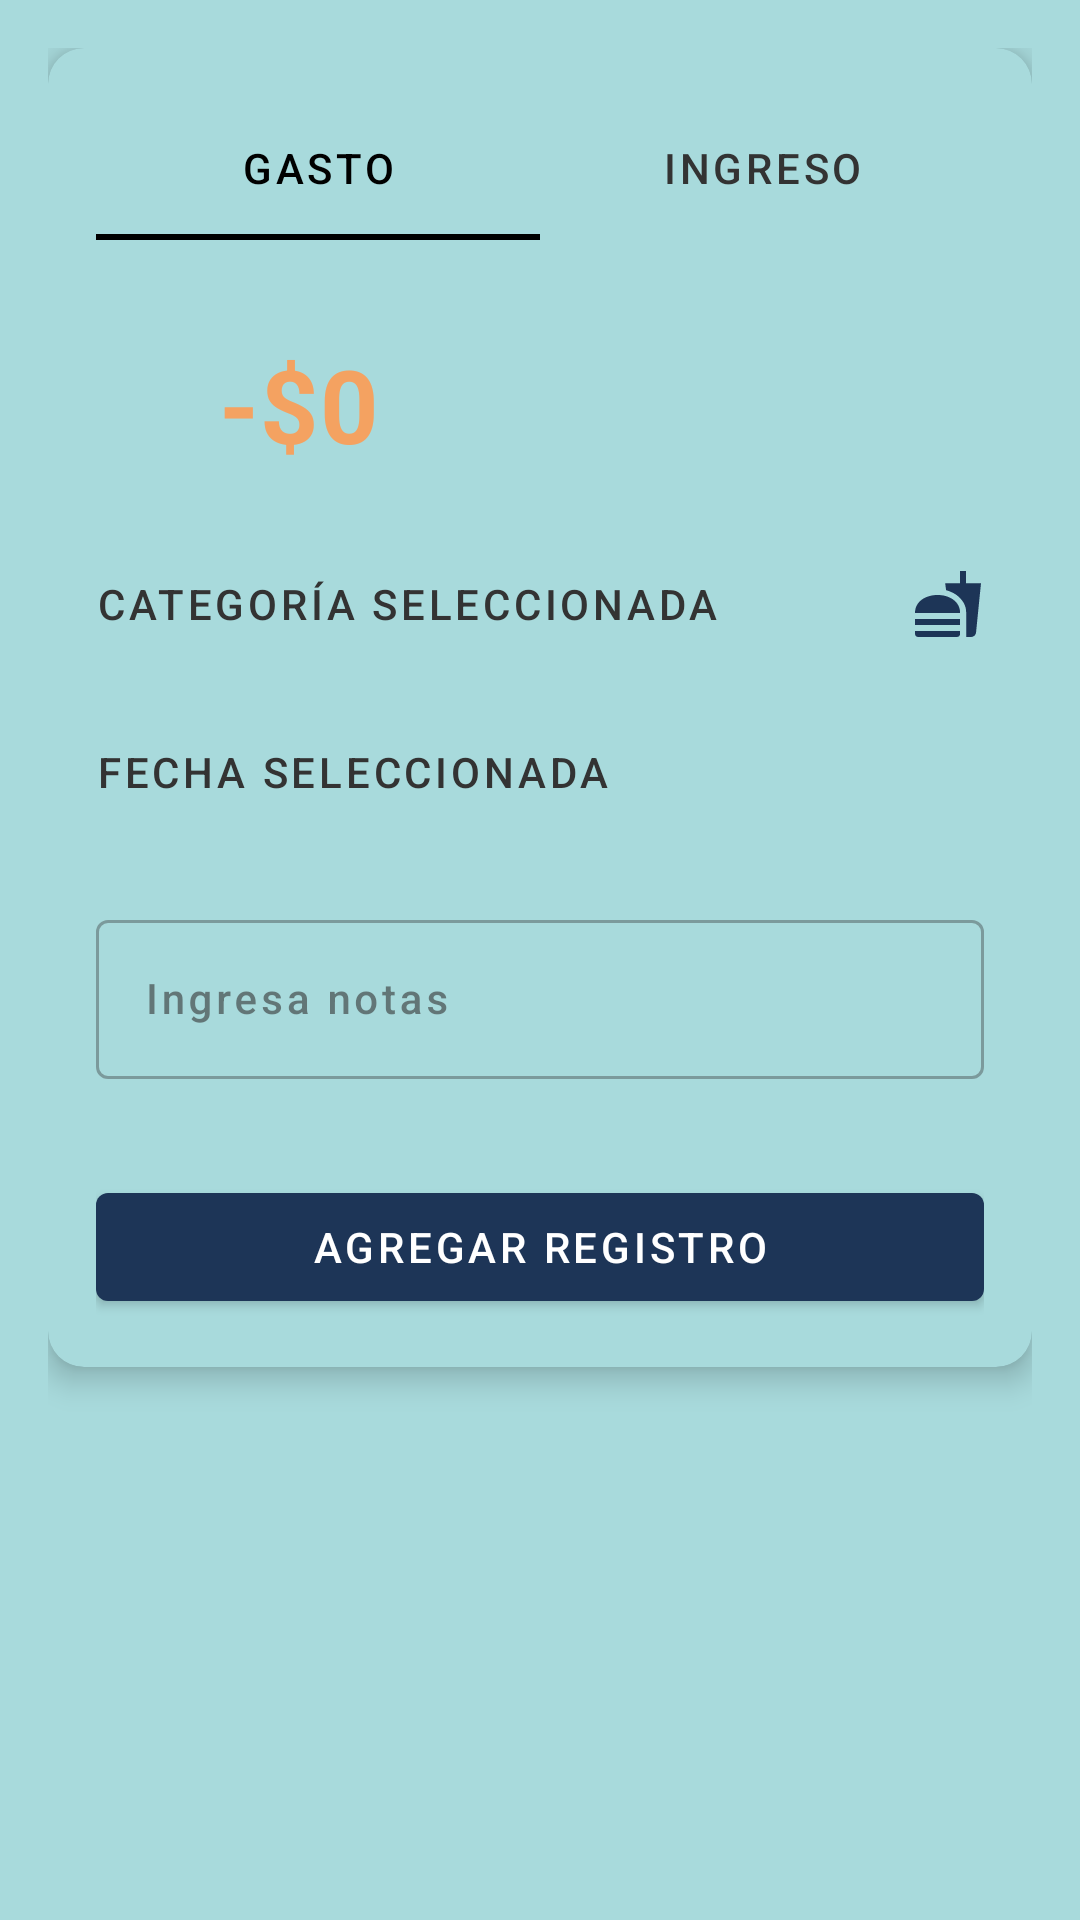

Screen size 1080 x 1920. Icon name, then its center in pixels as [x,y]:
food: [948,604]
